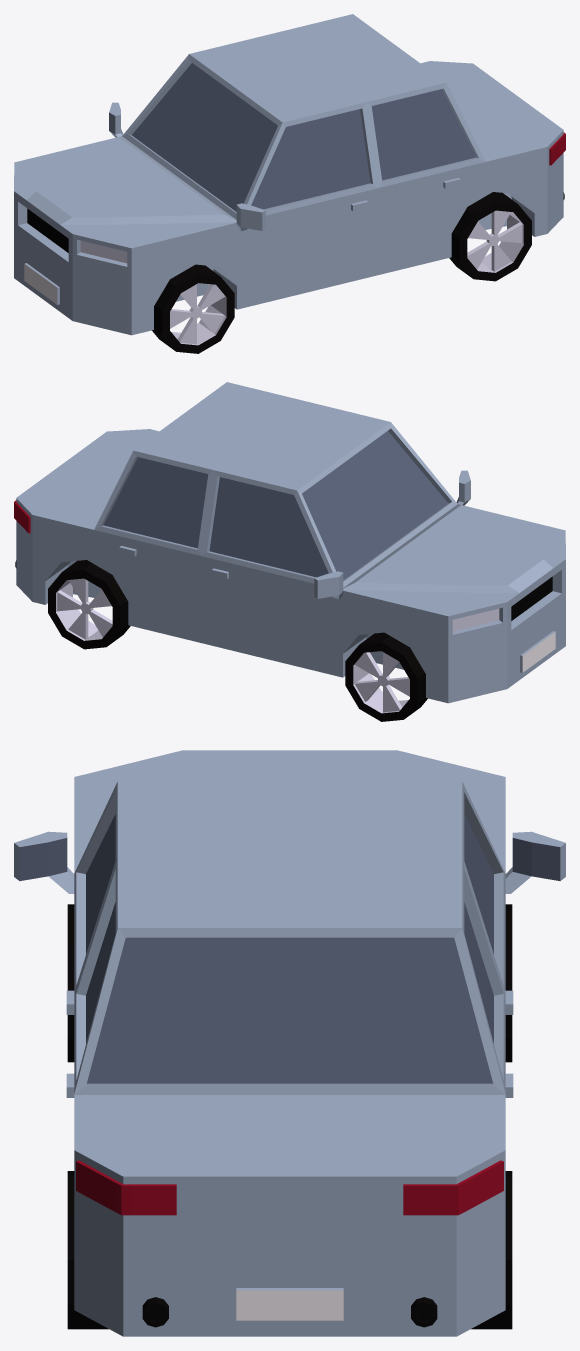
File: sedan.glb
3 views of the same model, one above another, from view 1: azimuth 30°, elevation 25°; view 2: azimuth 150°, elevation 25°; view 3: azimuth 270°, elevation 25° (orthographic). The views are drawn at different scales.
Parts seen in each view (by area): view 1: chassis, blwheel, flwheel; view 2: chassis, brwheel, frwheel; view 3: chassis, brwheel, blwheel, flwheel, frwheel.
Part boxes in pixels (<box>): chassis: <box>14,14,565,335</box>; blwheel: <box>449,192,531,281</box>; flwheel: <box>152,264,234,353</box>; chassis: <box>14,382,565,703</box>; brwheel: <box>48,560,130,649</box>; frwheel: <box>345,632,427,721</box>; chassis: <box>14,750,565,1336</box>; brwheel: <box>471,1171,512,1329</box>; blwheel: <box>67,1171,108,1329</box>; flwheel: <box>67,904,74,1062</box>; frwheel: <box>505,904,512,1062</box>.
Size of the model in its own units: 5.23 by 2.04 by 2.81.
